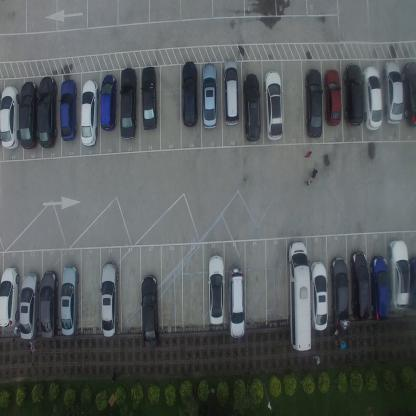car: (287, 239, 311, 351), (388, 239, 410, 309), (37, 76, 58, 148), (100, 260, 119, 339), (382, 60, 404, 126), (330, 256, 350, 328), (350, 250, 370, 320), (19, 270, 39, 340), (264, 69, 283, 142), (140, 273, 158, 350), (370, 253, 390, 322), (39, 270, 59, 339), (60, 264, 79, 336), (227, 266, 246, 337), (343, 63, 364, 127), (0, 83, 20, 150), (119, 66, 137, 140), (304, 68, 323, 138), (19, 80, 38, 150), (242, 73, 261, 142), (362, 65, 382, 130), (310, 259, 328, 331), (80, 78, 99, 146), (221, 59, 240, 126), (208, 254, 226, 324), (180, 60, 198, 128), (0, 265, 19, 328), (59, 78, 77, 142), (201, 63, 218, 130), (323, 68, 342, 126), (141, 66, 157, 130), (401, 60, 416, 128), (100, 74, 117, 132), (408, 257, 416, 310)
